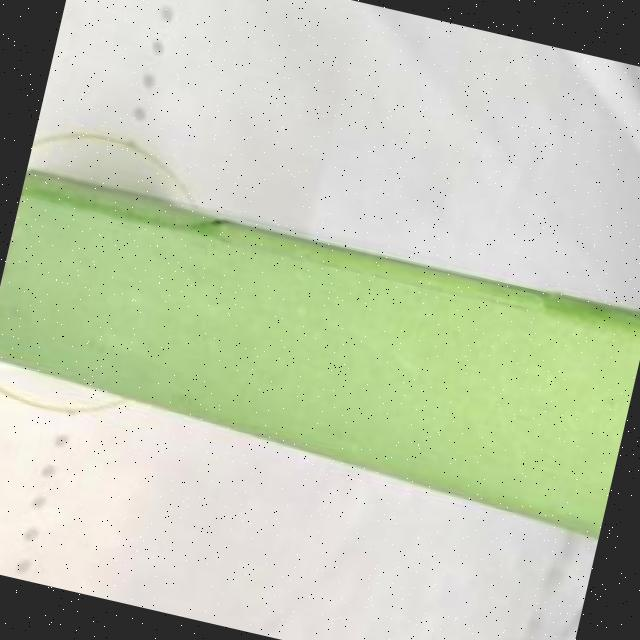greenbox: (0, 159, 640, 556)
